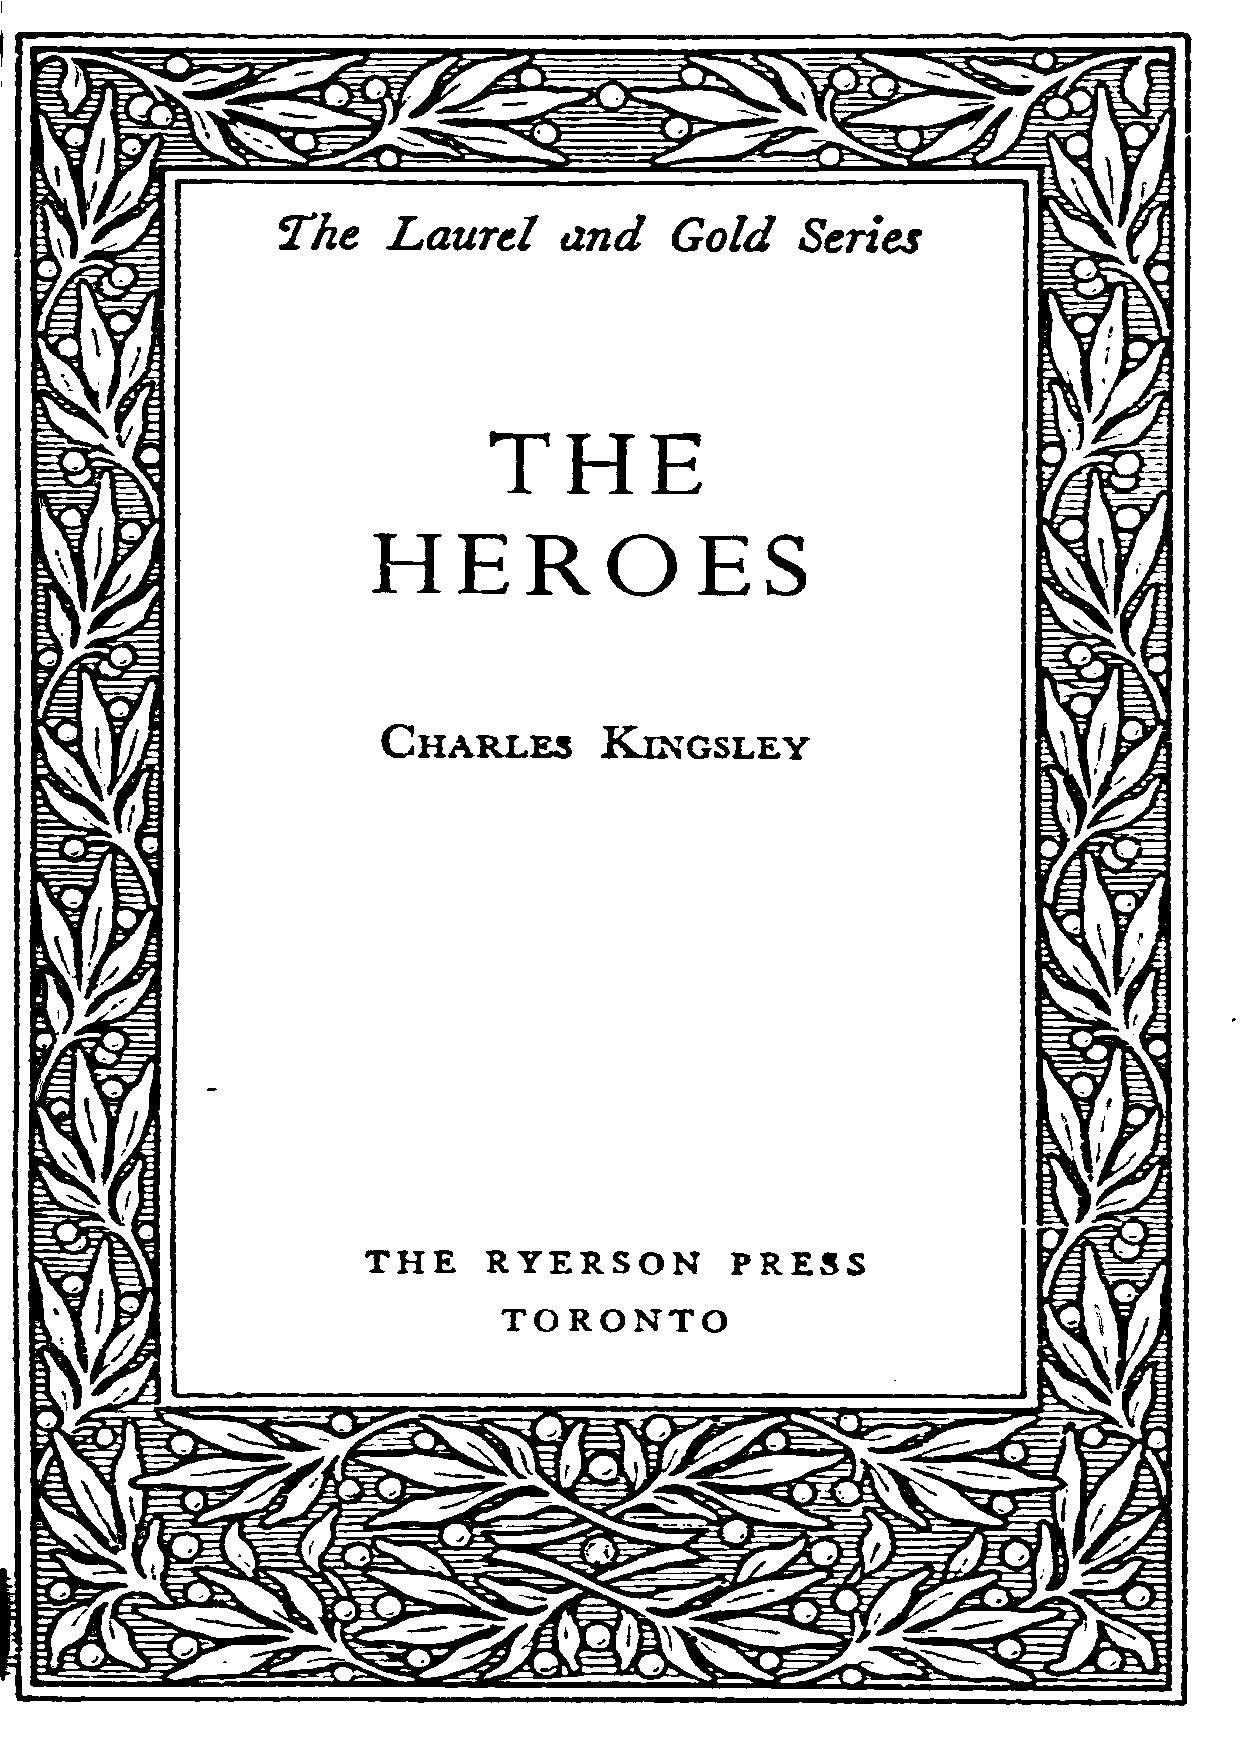author: (377, 722, 811, 761)
title: (366, 429, 808, 597)
